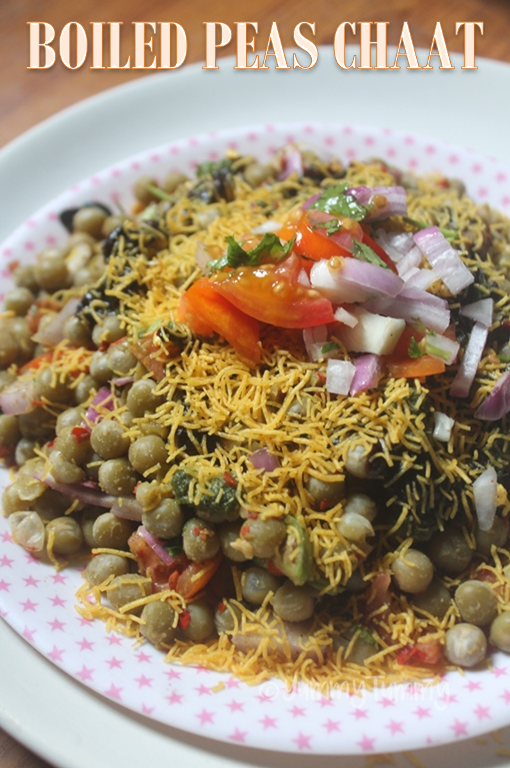boiled peas: (78, 441, 272, 615)
